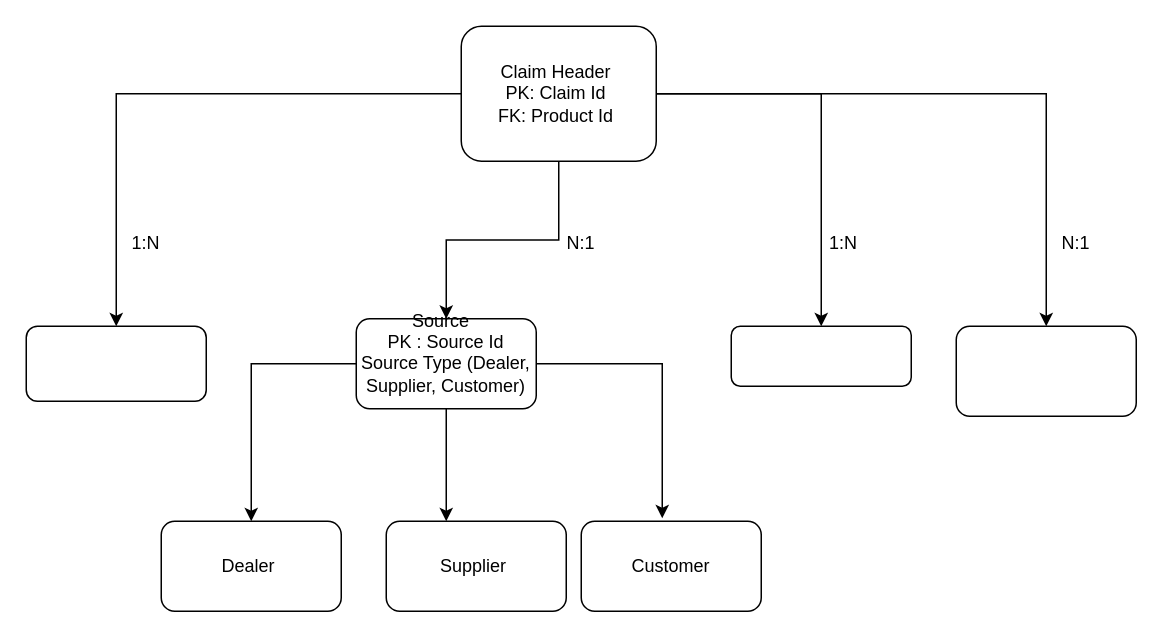
This 1163x638 diagram has some shape labels left out. Each missing label, with the centre of its shape:
Labor PK: Labor Id FK: Claim Id: the point at 820,355
Part PK: Service Part Id FK : Claim Id: the point at 115,363
Product (VIN) PK : Prod ID: the point at 1045,370
